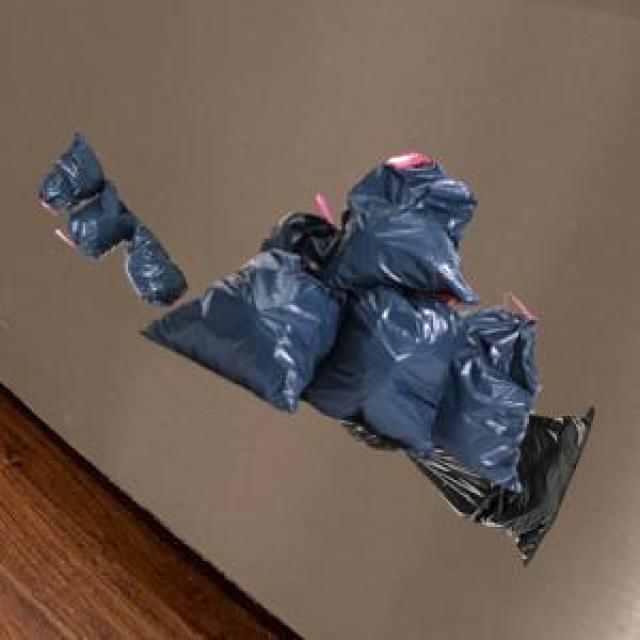Vinyl: (145, 154, 592, 561), (39, 136, 186, 305)
